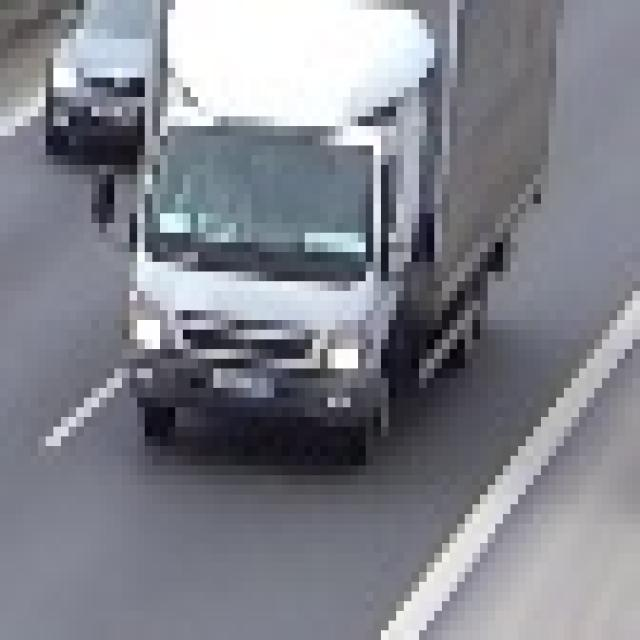truck: (91, 0, 541, 427)
